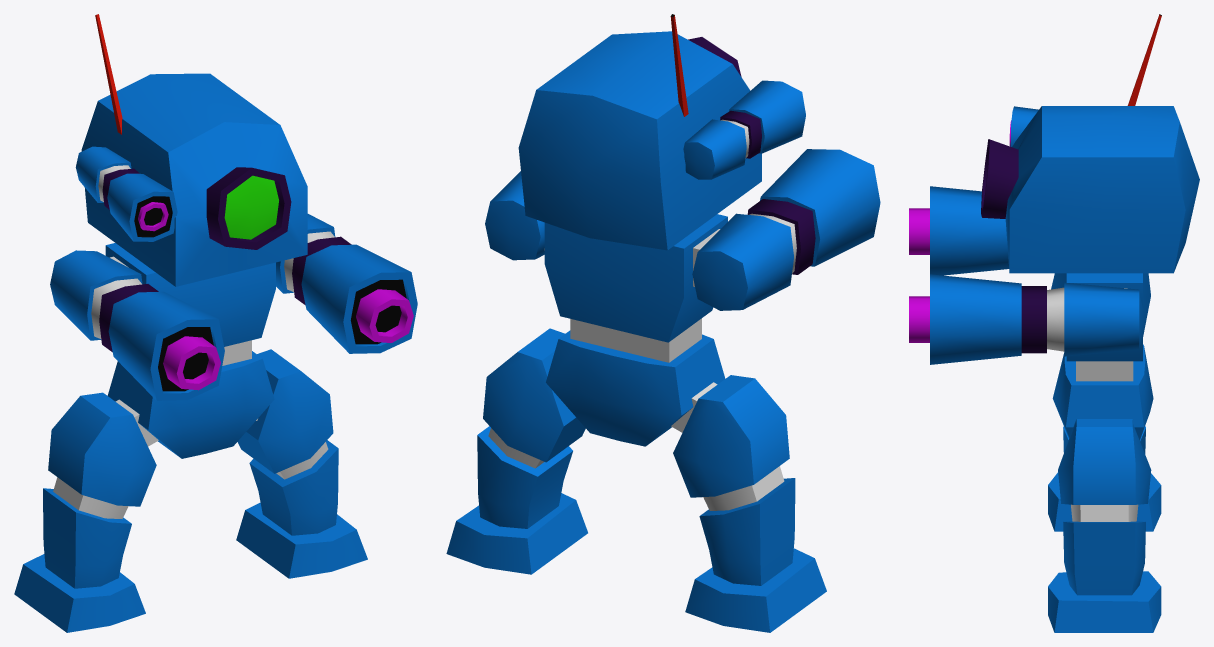
File: PlasmaMechV2.fbx
3 renders of one model, left to right at view 1: azimuth 30°, elevation 25°; view 2: azimuth 150°, elevation 25°; view 3: azimuth 270°, elevation 25°, orthographic. The views are drawn at different scales.
Visible parts, largest first — view 1: PlasmaMechCombined; view 2: PlasmaMechCombined; view 3: PlasmaMechCombined.
Boxes of the visible parts, bbox=[...] form: PlasmaMechCombined: bbox=[14, 14, 417, 632]; PlasmaMechCombined: bbox=[446, 14, 880, 632]; PlasmaMechCombined: bbox=[909, 14, 1199, 632].
Size of the model in its own units: 3.03 by 5.35 by 2.71.
